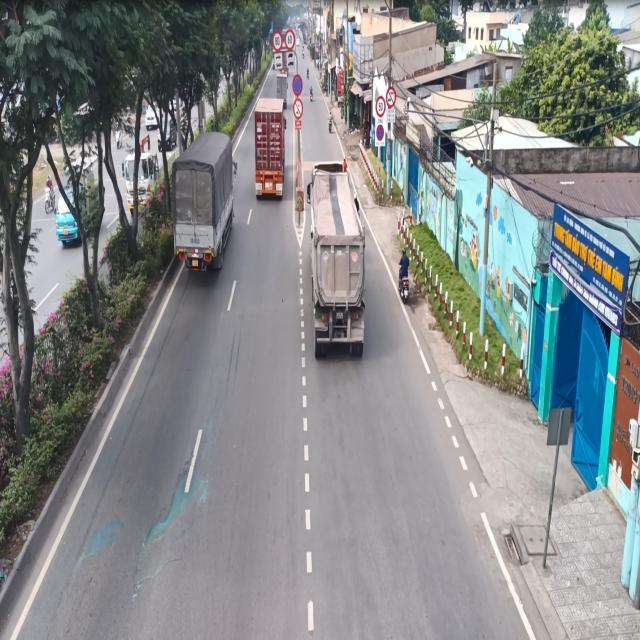container-truck: (253, 97, 286, 199)
truck: (297, 159, 367, 359), (169, 130, 234, 273), (115, 144, 177, 213), (53, 179, 112, 249)
